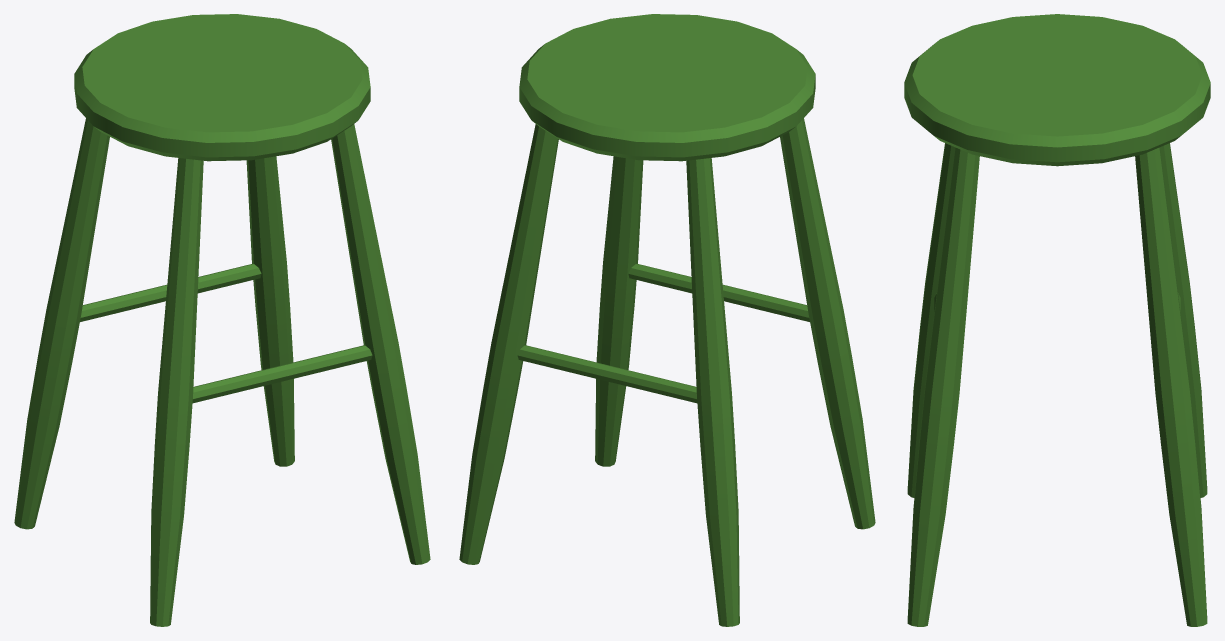
Rendered from DSVPall.fbx.
The picture shows the model from 3 angles, left to right: view 1: azimuth 30°, elevation 25°; view 2: azimuth 150°, elevation 25°; view 3: azimuth 270°, elevation 25°; orthographic projection. The views are drawn at different scales.
Parts seen in each view (by area): view 1: pall; view 2: pall; view 3: pall.
Boxes of the visible parts, x1,y1,x2,y2 form: pall: (14,14,430,626); pall: (459,14,875,626); pall: (904,14,1210,626).
Size of the model in its own units: 0.0837 by 0.1355 by 0.0777.
